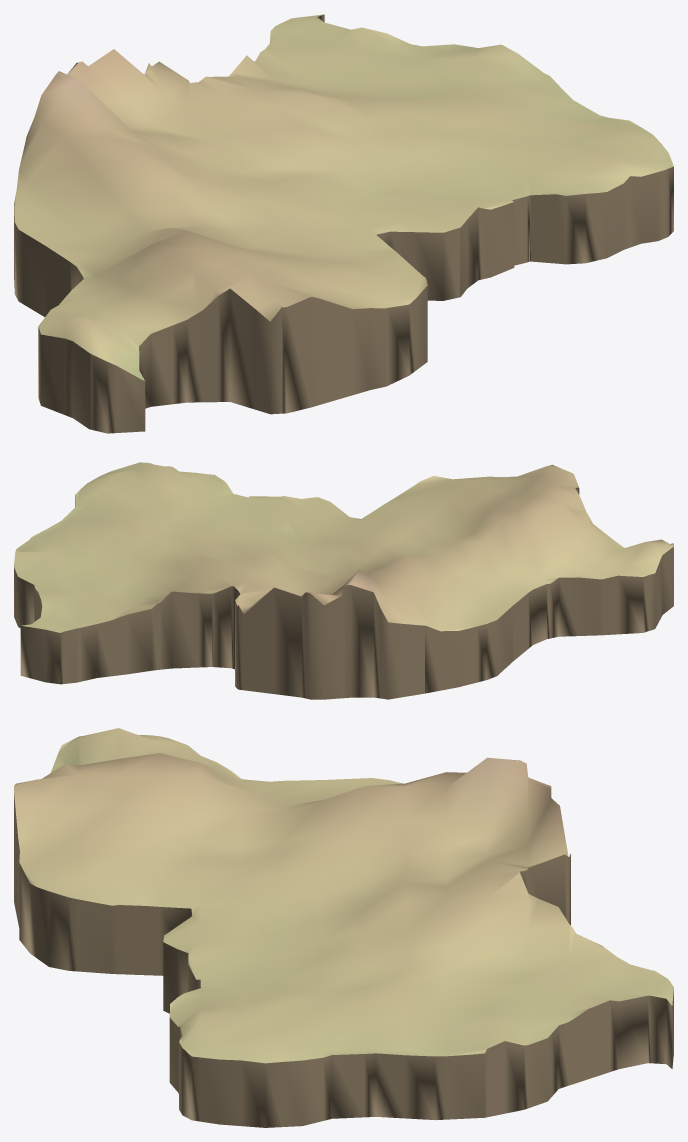
The model's file is RWA.glb.
3 views of the same model, one above another, from view 1: azimuth 30°, elevation 25°; view 2: azimuth 150°, elevation 25°; view 3: azimuth 270°, elevation 25° (orthographic). The views are drawn at different scales.
Parts seen in each view (by area): view 1: RWA; view 2: RWA; view 3: RWA.
Boxes of the visible parts, bbox=[...] form: RWA: bbox=[14, 14, 673, 433]; RWA: bbox=[14, 462, 673, 699]; RWA: bbox=[14, 728, 673, 1127].
Size of the model in its own units: 1.58 by 0.338 by 1.36.
